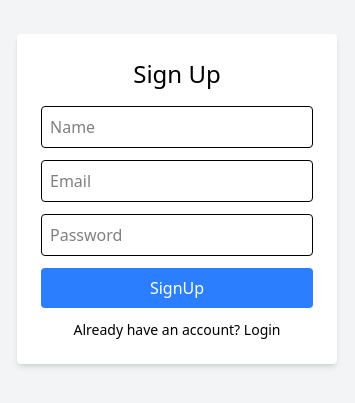
Scenario: Signup component › shows validation error for invalid email after blur
In the field with placeholder "Email": (177, 181) [41, 160, 313, 202], type "invalid-email"
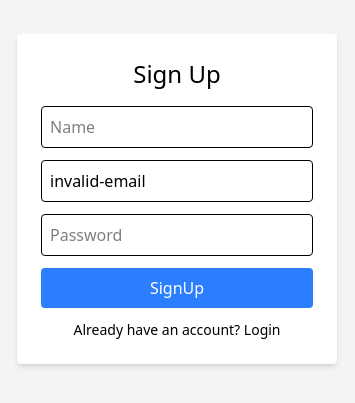
Leave the field with placeholder "Email", box [41, 160, 313, 202]
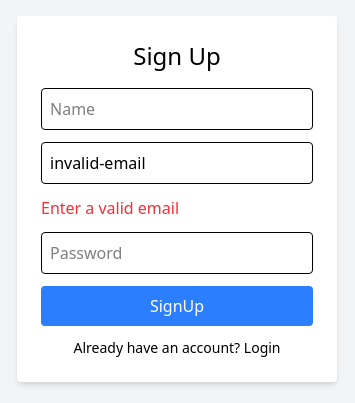
Expected: the text "Enter a valid email" is shown, [41, 197, 179, 219]
